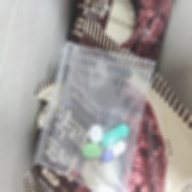러키펜정: (89, 125, 103, 144)
씨엠지세파클러캡슐: (100, 141, 126, 164)
에르도캡슐: (101, 123, 129, 148)
휴티렌정: (81, 143, 103, 159)
